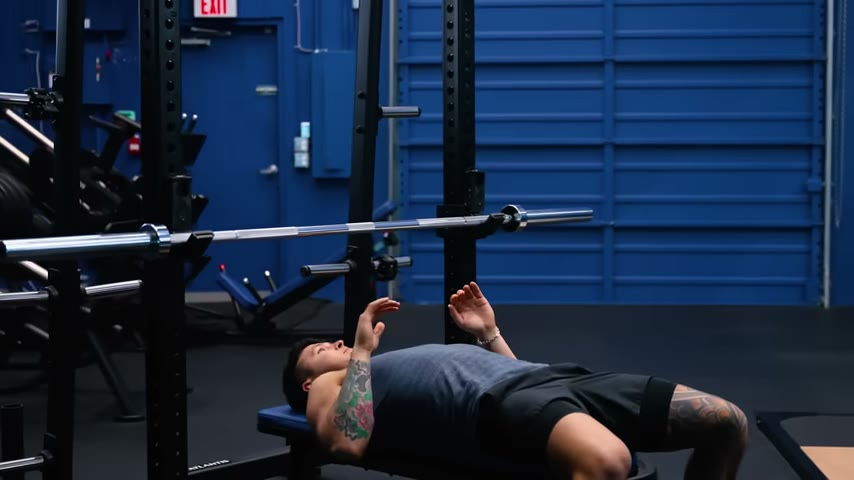barbell_plate_side: (251, 347, 341, 473)
